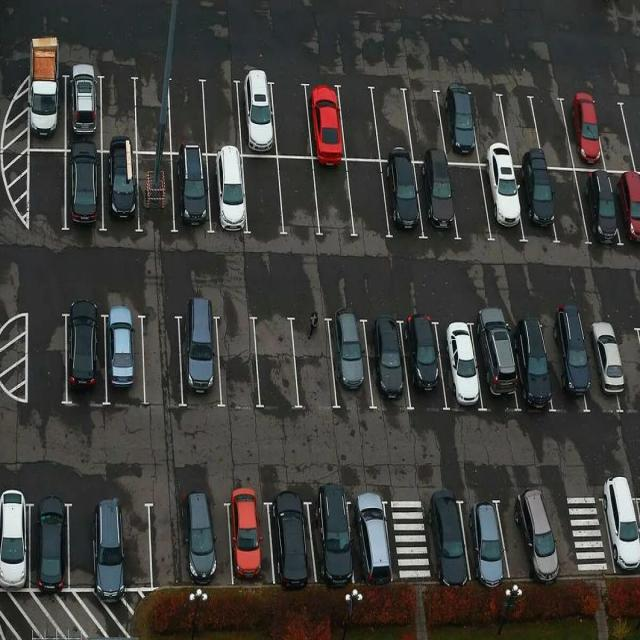space-empty: (25, 309, 72, 409), (291, 316, 336, 410), (148, 493, 188, 590), (142, 312, 183, 406), (68, 304, 107, 396), (254, 314, 292, 408), (221, 306, 255, 410), (346, 158, 388, 237), (27, 149, 66, 231), (271, 80, 311, 158), (338, 83, 377, 160), (449, 160, 486, 241), (548, 166, 585, 244), (594, 95, 631, 172), (100, 72, 136, 151), (244, 154, 281, 230), (406, 86, 444, 160), (203, 76, 239, 154), (168, 78, 205, 153), (282, 155, 318, 232), (502, 89, 538, 163), (134, 76, 168, 151), (70, 498, 98, 589), (375, 84, 409, 158), (539, 90, 568, 174), (318, 159, 350, 233), (474, 84, 505, 153)
space-occupied: (474, 316, 521, 410), (424, 494, 470, 588), (350, 494, 396, 586), (401, 317, 446, 410), (328, 316, 372, 410), (189, 490, 230, 590), (179, 306, 219, 408), (550, 311, 588, 410), (90, 498, 128, 596), (502, 488, 546, 571), (599, 484, 639, 575), (371, 312, 408, 409), (271, 493, 308, 589), (104, 310, 140, 408), (207, 151, 247, 235), (228, 492, 268, 576), (462, 495, 502, 579), (578, 166, 618, 247), (64, 149, 103, 231), (30, 496, 64, 590), (136, 150, 174, 233), (381, 158, 420, 238), (102, 151, 140, 232), (443, 314, 477, 404), (238, 76, 276, 154), (482, 162, 520, 240), (516, 162, 554, 240), (304, 82, 343, 157), (440, 83, 477, 159), (29, 74, 66, 150), (173, 154, 210, 228), (67, 71, 102, 149), (566, 90, 600, 169), (518, 316, 547, 407), (419, 162, 453, 237), (0, 500, 30, 582), (592, 328, 618, 411), (619, 171, 640, 245)
